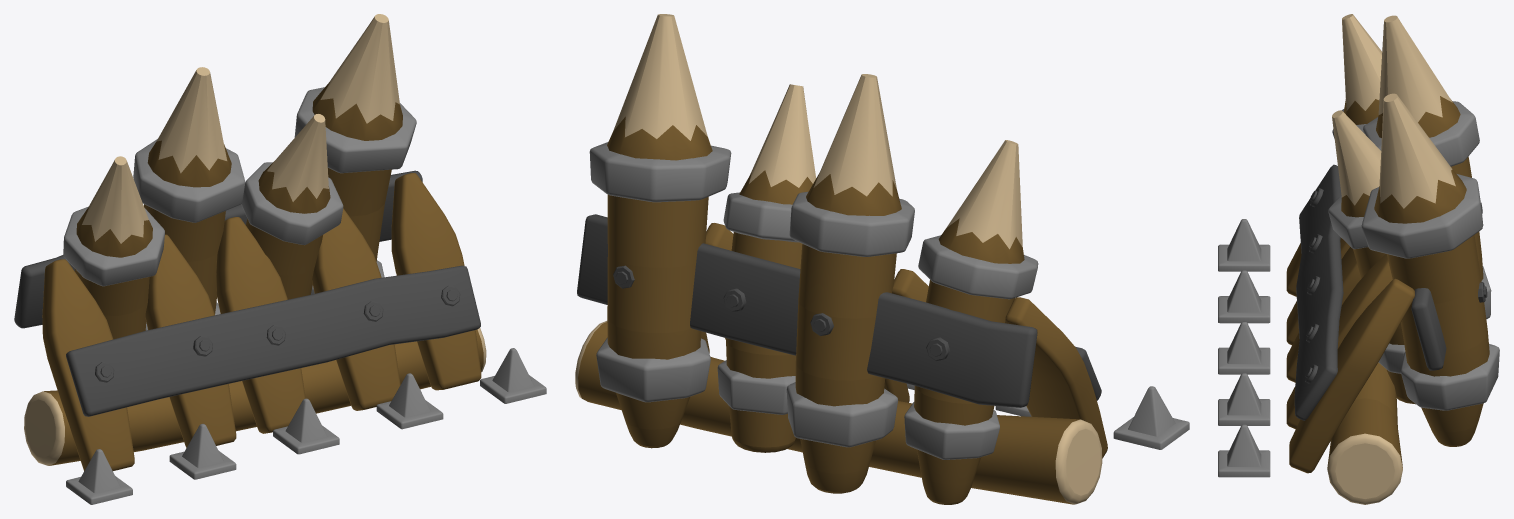
File: Castle_Barricade_1.FBX
3 renders of one model, left to right at view 1: azimuth 30°, elevation 25°; view 2: azimuth 150°, elevation 25°; view 3: azimuth 270°, elevation 25°, orthographic. The views are drawn at different scales.
Parts seen in each view (by area): view 1: Barricade_01_Barricade, Barricade_01_Plank_Sharp, Barricade_01_Plank, Barricade_01_Trap, Barricade_01_Support_Bottom; view 2: Barricade_01_Barricade, Barricade_01_Plank, Barricade_01_Support_Bottom, Barricade_01_Plank_Sharp, Barricade_01_Trap; view 3: Barricade_01_Barricade, Barricade_01_Plank_Sharp, Barricade_01_Plank, Barricade_01_Trap, Barricade_01_Support_Bottom.
Part boxes in pixels (x1,y1,x2,y2): Barricade_01_Barricade: (63,14,416,339); Barricade_01_Plank_Sharp: (42,173,481,470); Barricade_01_Plank: (14,170,480,416); Barricade_01_Trap: (66,348,546,504); Barricade_01_Support_Bottom: (24,328,486,465); Barricade_01_Barricade: (589,14,1038,504); Barricade_01_Plank: (577,214,1101,407); Barricade_01_Support_Bottom: (575,321,1102,504); Barricade_01_Plank_Sharp: (701,223,1107,458); Barricade_01_Trap: (907,383,1189,449); Barricade_01_Barricade: (1328,14,1499,446); Barricade_01_Plank_Sharp: (1286,238,1414,473); Barricade_01_Plank: (1294,164,1487,420); Barricade_01_Trap: (1218,219,1270,477); Barricade_01_Support_Bottom: (1327,362,1402,504).
Bounding box in the file's own units: 749 × 575 × 394.
